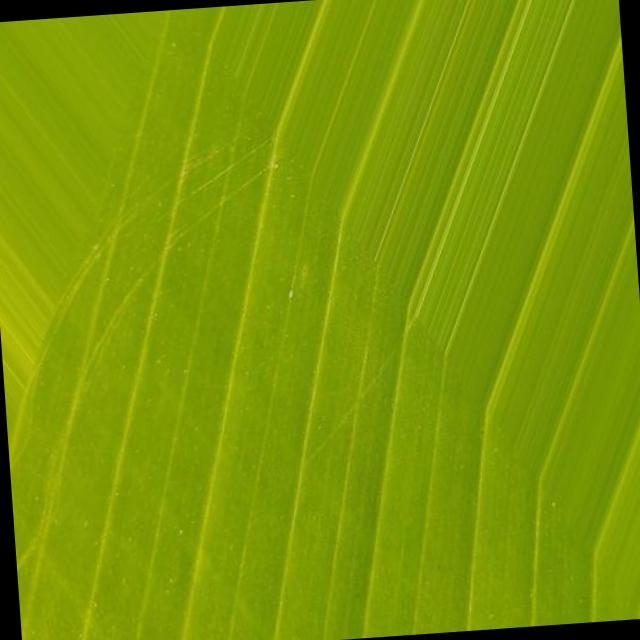Banana_Healthy: (144, 120, 566, 528)
